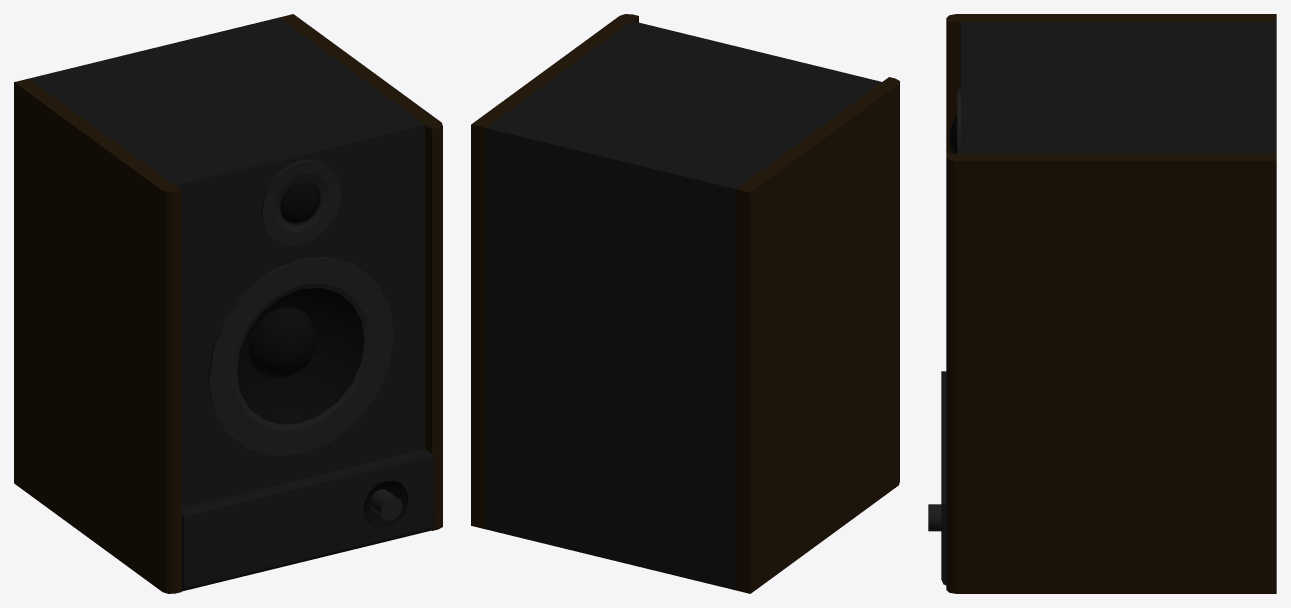
The model's file is SoundBoxLes_1.fbx.
3 views of the same model, side by side, from view 1: azimuth 30°, elevation 25°; view 2: azimuth 150°, elevation 25°; view 3: azimuth 270°, elevation 25° (orthographic). The views are drawn at different scales.
Parts seen in each view (by area): view 1: polySurface5, pCube4, pCube20, polySurface4, pCube3, polySurface6, pCube16, pCube17, pCube19, pCylinder3; view 2: polySurface5, pCube4, pCube3; view 3: pCube3, polySurface5, pCube4, pCube20.
Boxes of the visible parts, x1=… form: polySurface5: x1=29, y1=17, x2=425, y2=508; pCube4: x1=14, y1=78, x2=181, y2=593; pCube20: x1=182, y1=449, x2=434, y2=591; polySurface4: x1=207, y1=257, x2=394, y2=455; pCube3: x1=279, y1=14, x2=442, y2=530; polySurface6: x1=260, y1=159, x2=341, y2=245; pCube16: x1=248, y1=307, x2=316, y2=378; pCube17: x1=280, y1=180, x2=320, y2=223; pCube19: x1=363, y1=480, x2=406, y2=527; pCylinder3: x1=369, y1=489, x2=402, y2=520; polySurface5: x1=485, y1=21, x2=881, y2=590; pCube4: x1=736, y1=77, x2=899, y2=593; pCube3: x1=471, y1=14, x2=638, y2=529; pCube3: x1=946, y1=153, x2=1276, y2=593; polySurface5: x1=961, y1=21, x2=1276, y2=153; pCube4: x1=946, y1=14, x2=1276, y2=153; pCube20: x1=941, y1=371, x2=946, y2=585.
Size of the model in its own units: 12.5 by 17.16 by 12.52.
